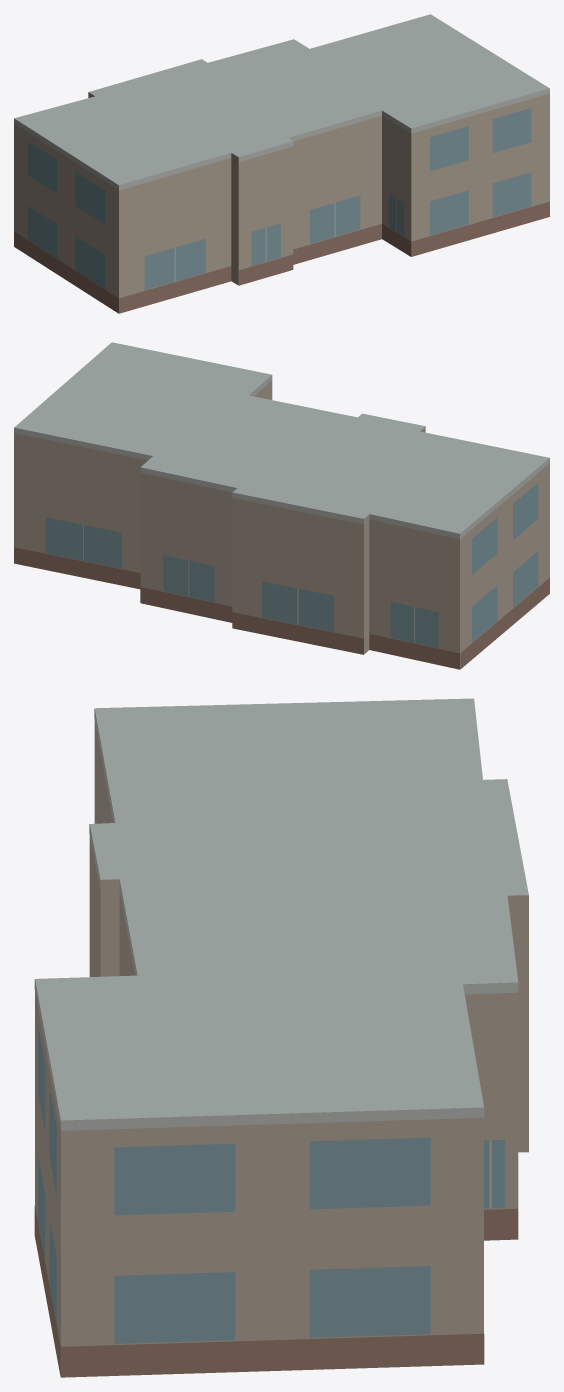
Rendered from survey-upis-32658365.glb.
3 views of the same model, one above another, from view 1: azimuth 30°, elevation 25°; view 2: azimuth 150°, elevation 25°; view 3: azimuth 270°, elevation 25° (orthographic). The views are drawn at different scales.
Parts seen in each view (by area): view 1: survey-upis-32658365.tmp; view 2: survey-upis-32658365.tmp; view 3: survey-upis-32658365.tmp.
Part boxes in pixels (left/top/right/bottom): survey-upis-32658365.tmp: left=14, top=14, right=549, bottom=313; survey-upis-32658365.tmp: left=14, top=342, right=549, bottom=669; survey-upis-32658365.tmp: left=34, top=698, right=528, bottom=1377.
Bounding box in the file's own units: 21.5 × 6.1 × 10.64.
